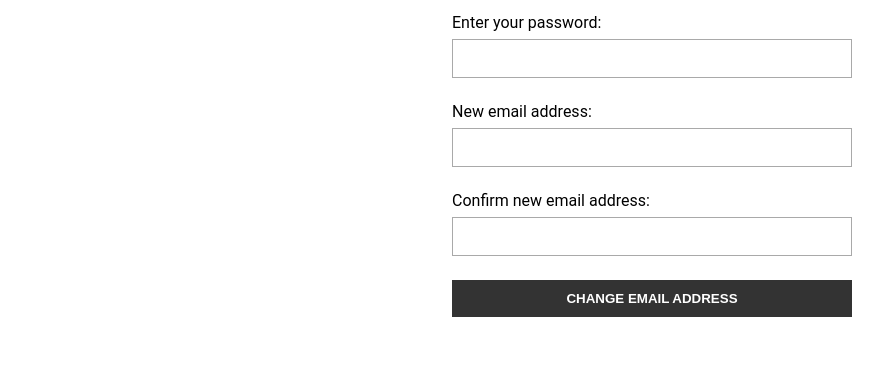
Test: displays error if password is wrong for email change
Type "wrongPassword" into the password field labelled "Enter your password:". click: (652, 58)
box: [452,39,852,78]
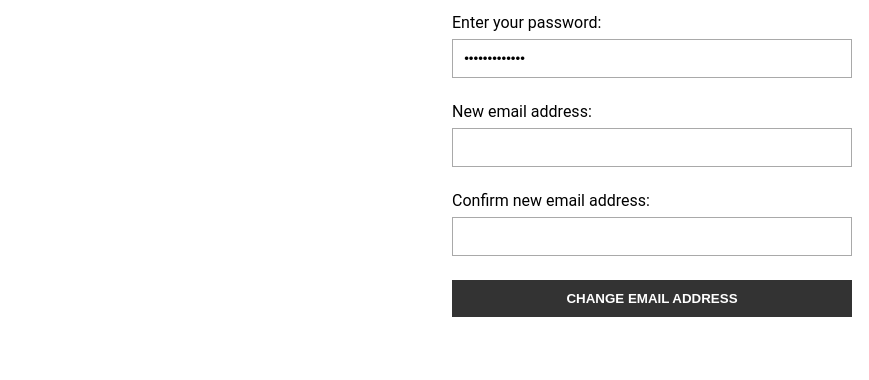
Type "test1@gmail.com" into the field labelled "New email address:". click: (652, 147)
box: [452,128,852,167]
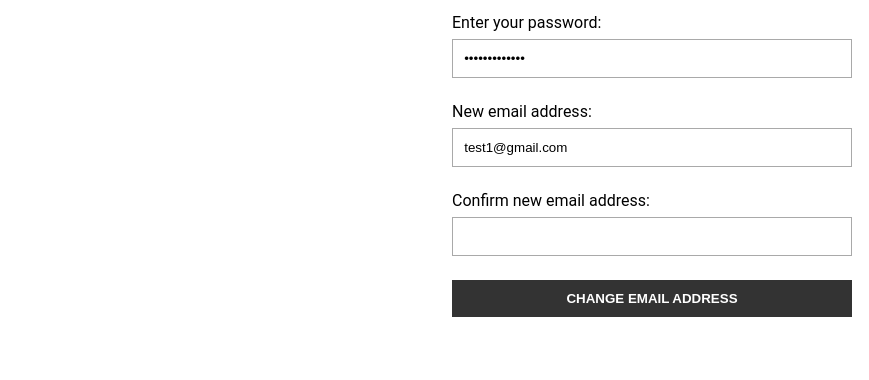
Type "test1@gmail.com" into the field labelled "Confirm new email address:". click: (652, 236)
box: [452,217,852,256]
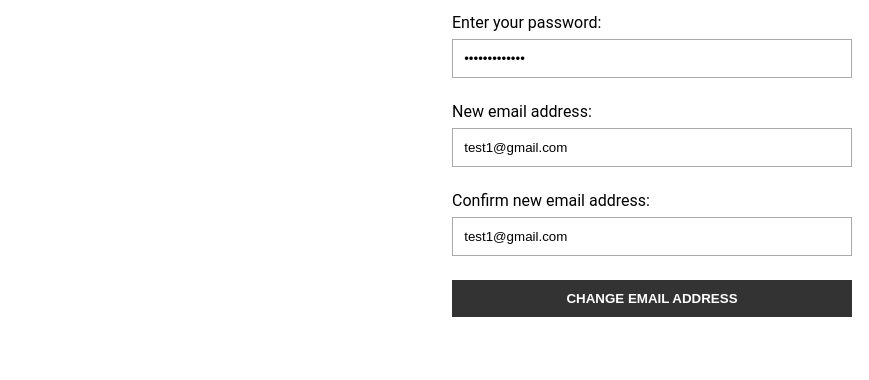
Click the button "Change email address". click: (652, 299)
box: [452,280,852,318]
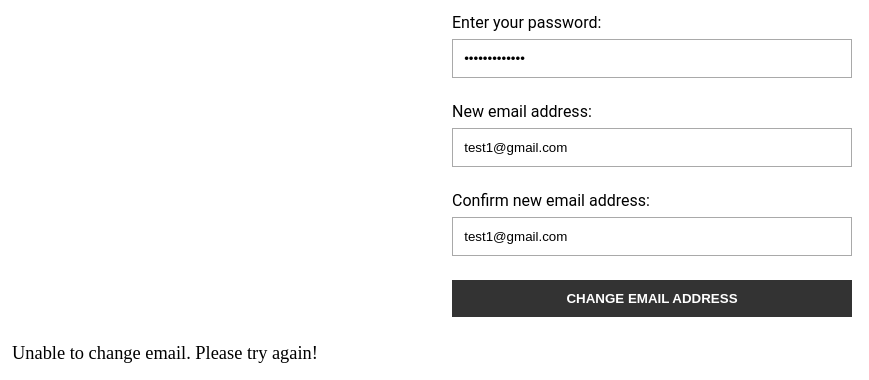
expect the text "Unable to change email. Please try again!" is shown: met, box [12,343,318,363]
